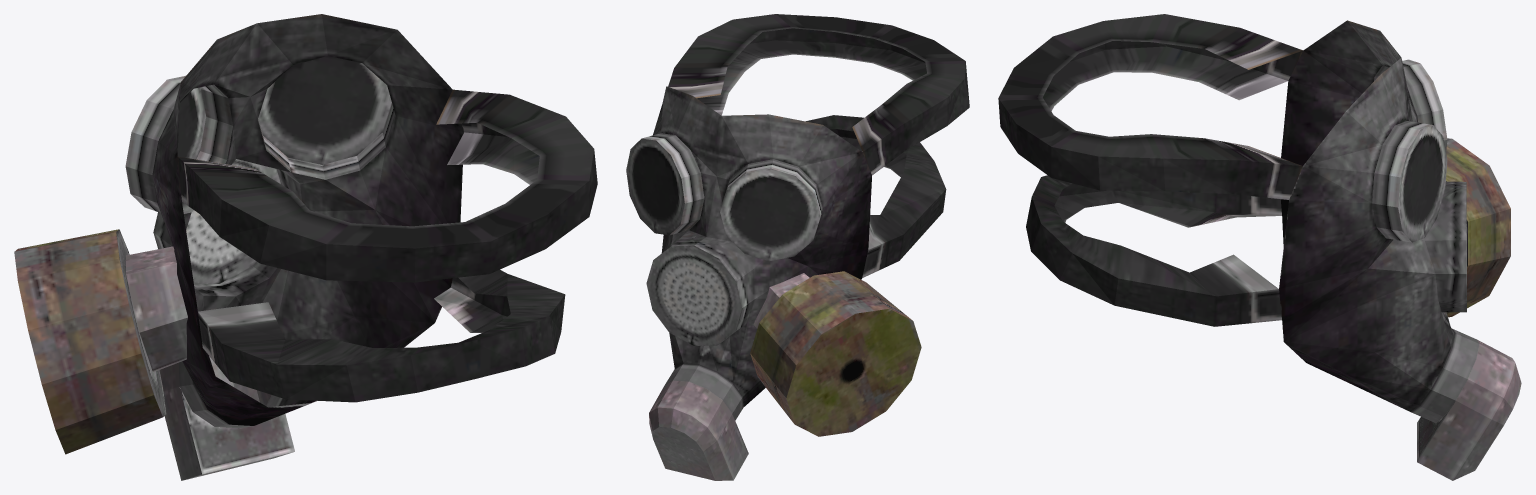
The model's file is mask2.fbx.
The picture shows the model from 3 angles, left to right: view 1: azimuth 30°, elevation 25°; view 2: azimuth 150°, elevation 25°; view 3: azimuth 270°, elevation 25°; orthographic projection. The views are drawn at different scales.
Visible parts, largest first — view 1: Object_1.002; view 2: Object_1.002; view 3: Object_1.002.
Boxes of the visible parts, x1,y1,x2,y2 form: Object_1.002: (14, 14, 597, 480); Object_1.002: (626, 14, 969, 480); Object_1.002: (998, 14, 1521, 480).
Size of the model in its own units: 20.95 by 22.71 by 26.36.
